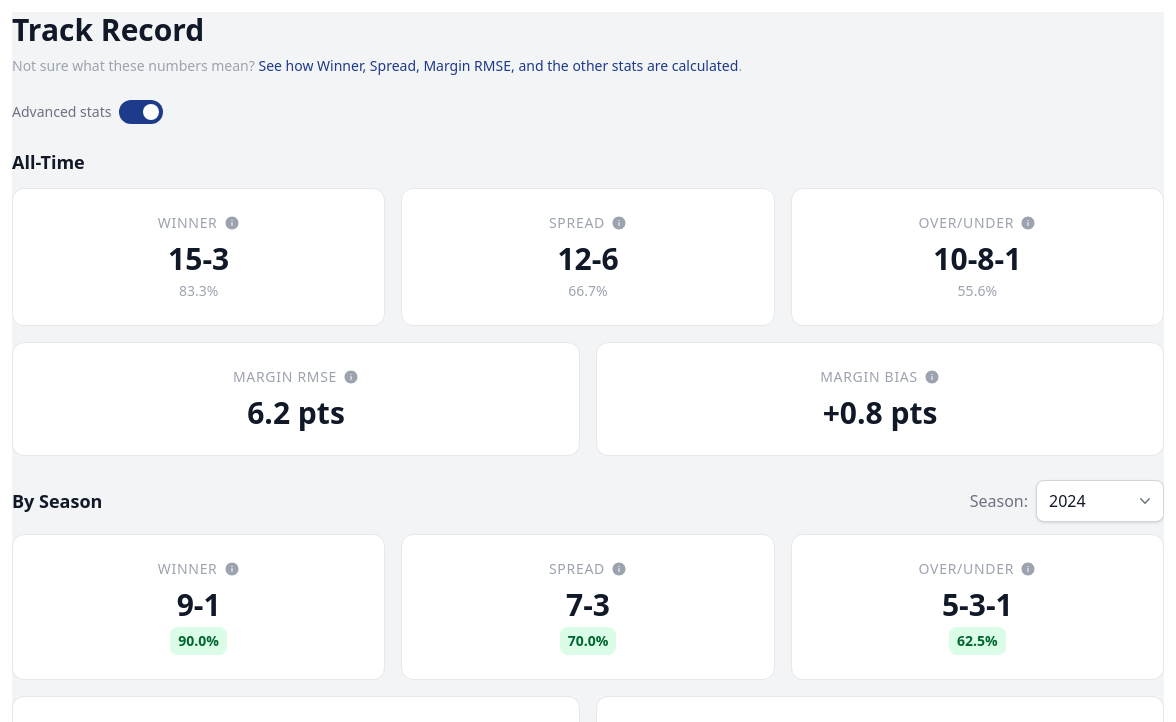
Scenario: TrackRecordPage › updates the table and season-overall cards when the season changes, without altering the all-time cards
Select "2023" in the dropdown labelled "Season:" at {"x": 1100, "y": 501}, box [1036,480,1164,522]
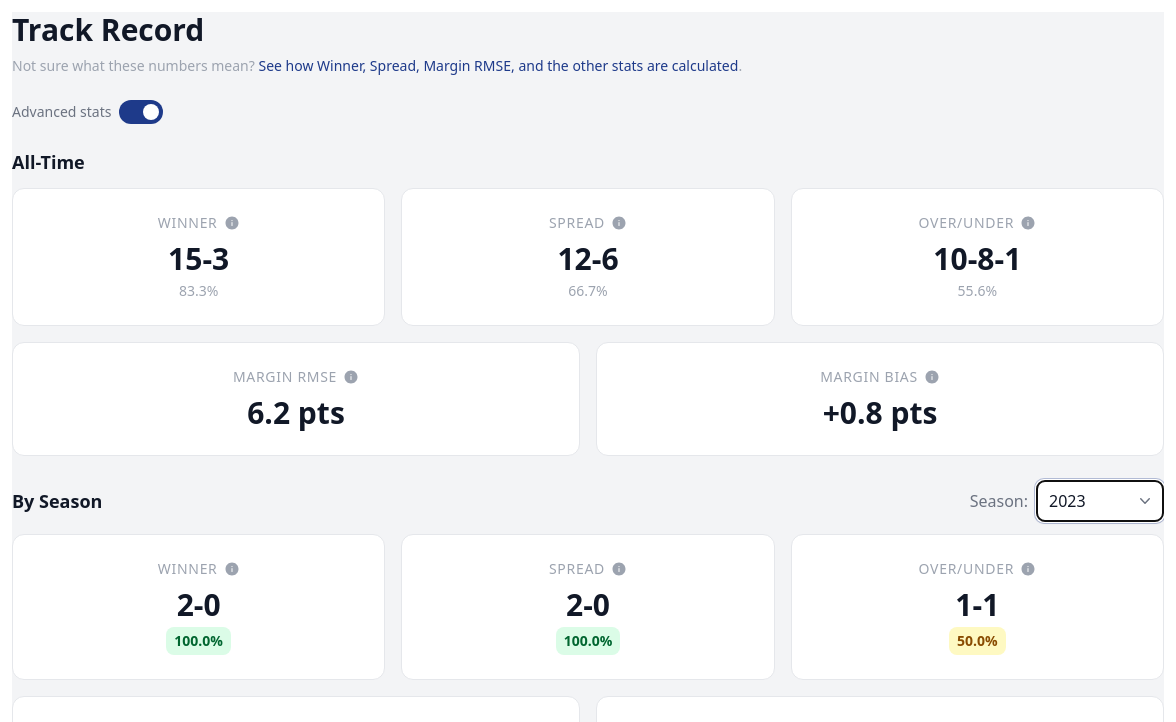
Expected: the text "15-3" is shown, [168,238,229,279]
Result: the text "9-1" is gone
Result: the text "5-3-1" is gone
